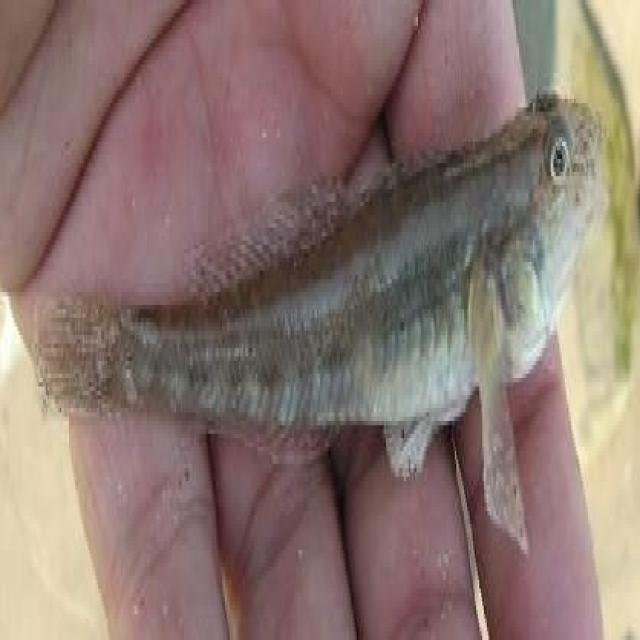Goby: (8, 65, 634, 600)
